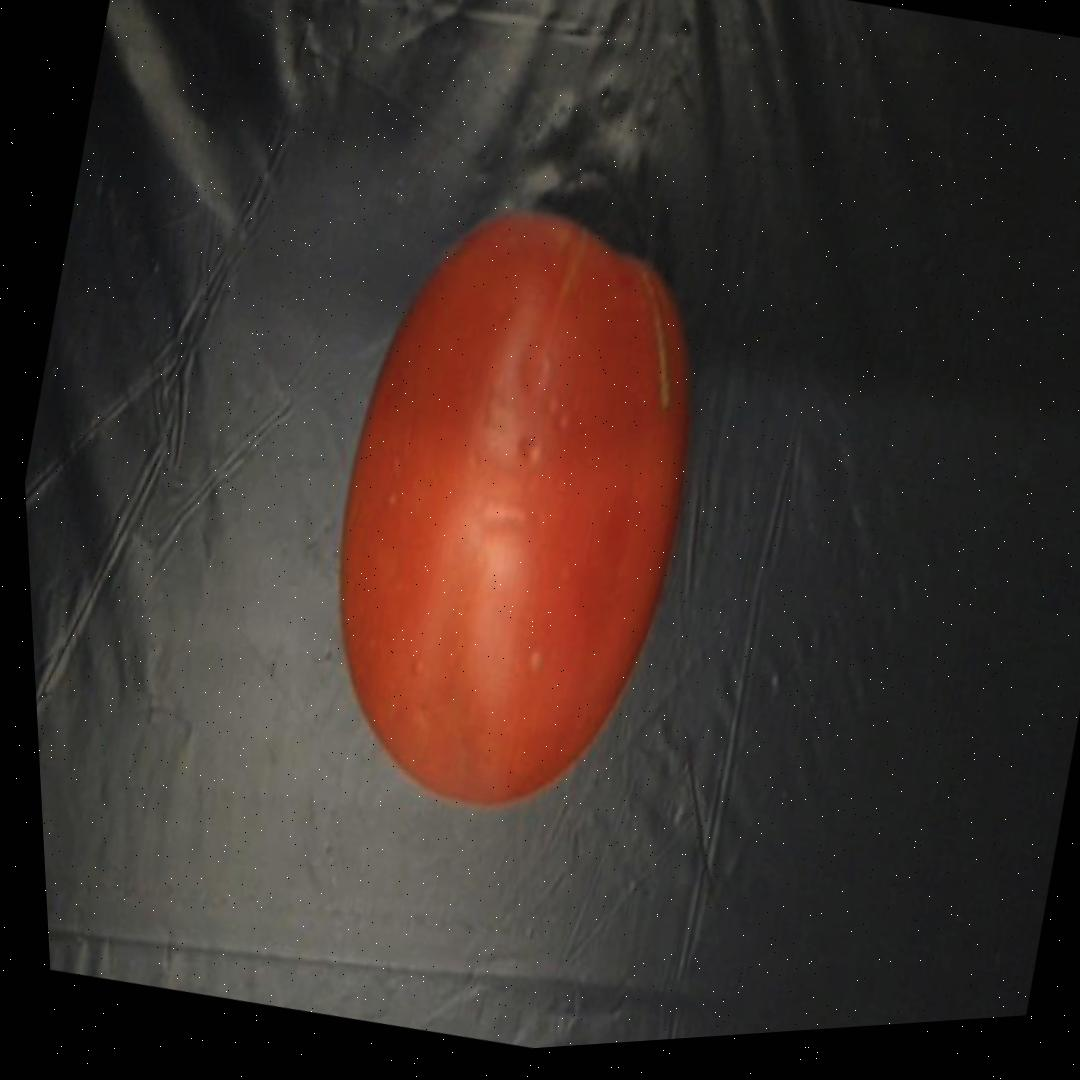matang: (266, 164, 757, 851)
